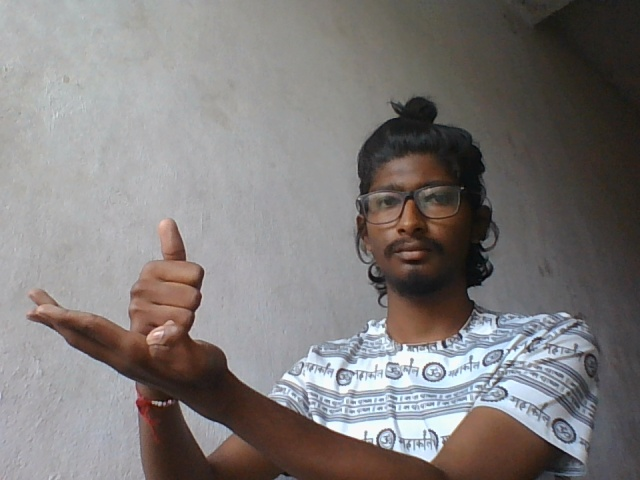Name: (25, 211, 244, 391)
